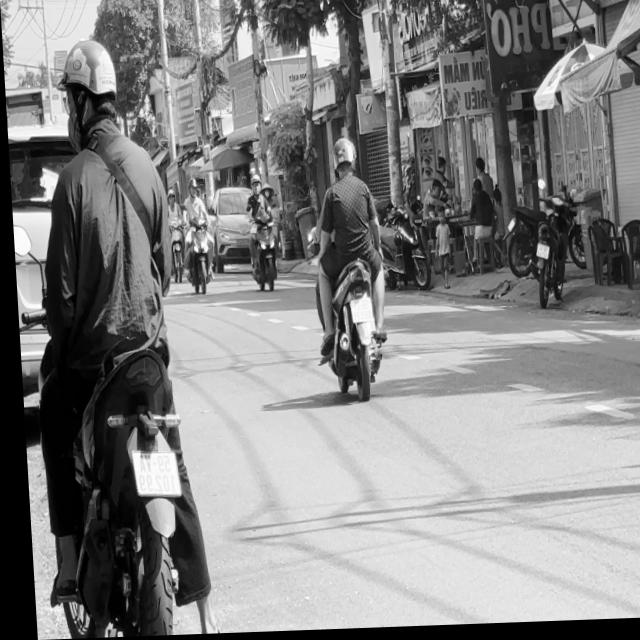helmet: (59, 37, 122, 143), (330, 138, 356, 179)
licenseplate: (4, 34, 212, 640), (302, 134, 391, 402)
nohelmet: (128, 451, 175, 497), (346, 300, 370, 326)
